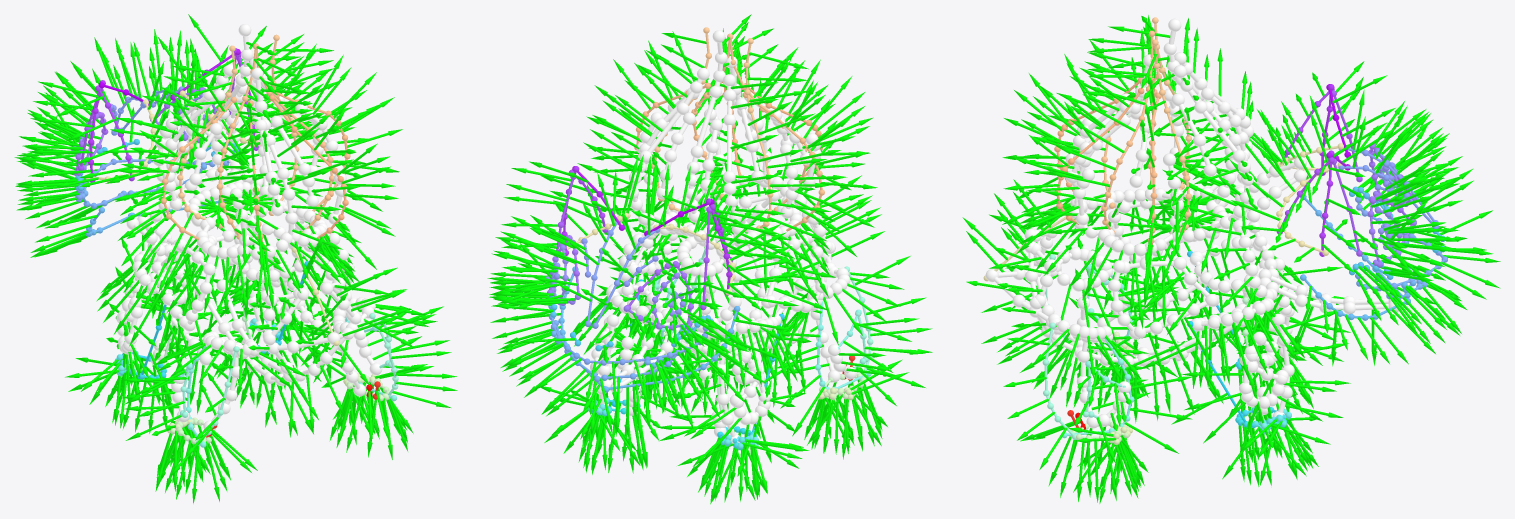
File: author1_bulbasaur.gltf
The picture shows the model from 3 angles, left to right: view 1: azimuth 30°, elevation 25°; view 2: azimuth 150°, elevation 25°; view 3: azimuth 270°, elevation 25°; orthographic projection. The views are drawn at different scales.
Size of the model in its own units: 0.5665 by 0.7236 by 0.8177.
